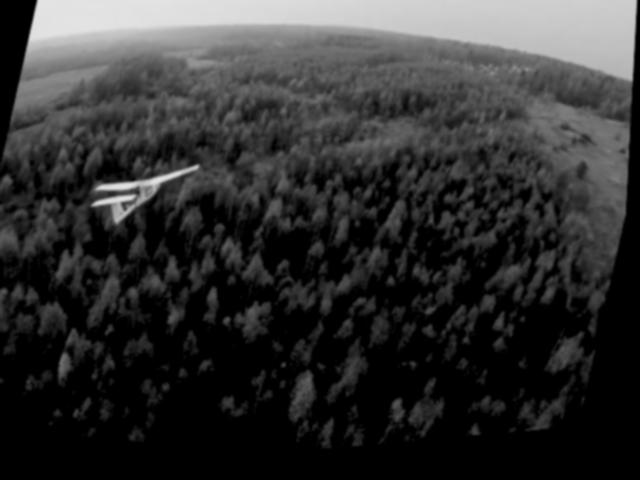hedef: (71, 142, 205, 248)
